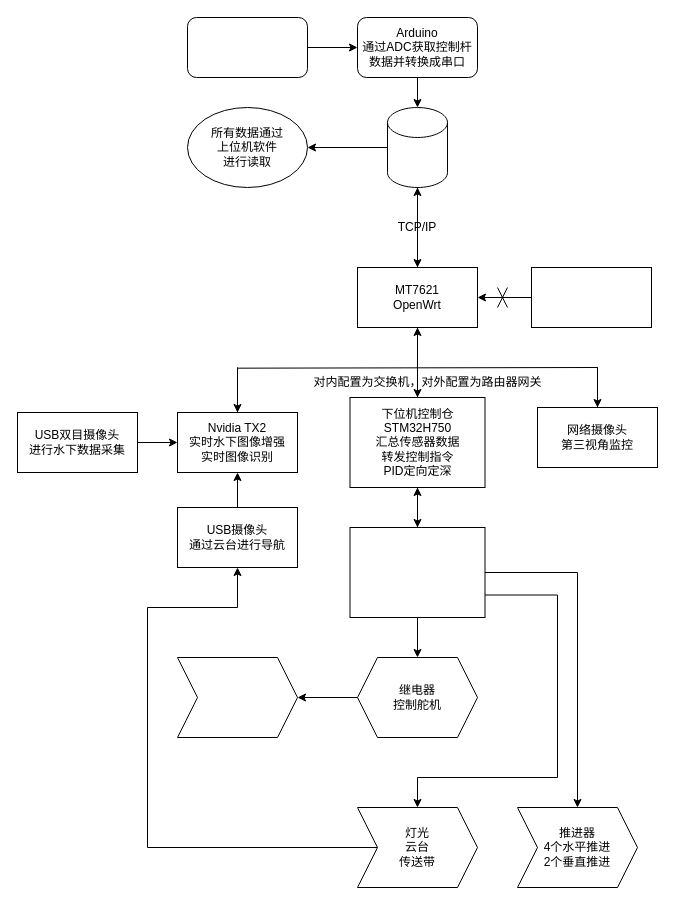
The diagram is 675 pixels wide and 905 high, and some of its shapes have lost their labels. Here are the shapes that lost their labels. From the top down, the box of each, then its label:
(186, 16, 308, 78): 控制杆 按钮 机械臂模拟设备
(386, 106, 448, 188): 上位机
(530, 266, 652, 328): USB摄像头
(349, 526, 485, 618): 下位机电源仓 STM32H750 汇总传感器数据 执行控制指令 控制PWM
(176, 656, 298, 738): 舵机 控制机械臂
